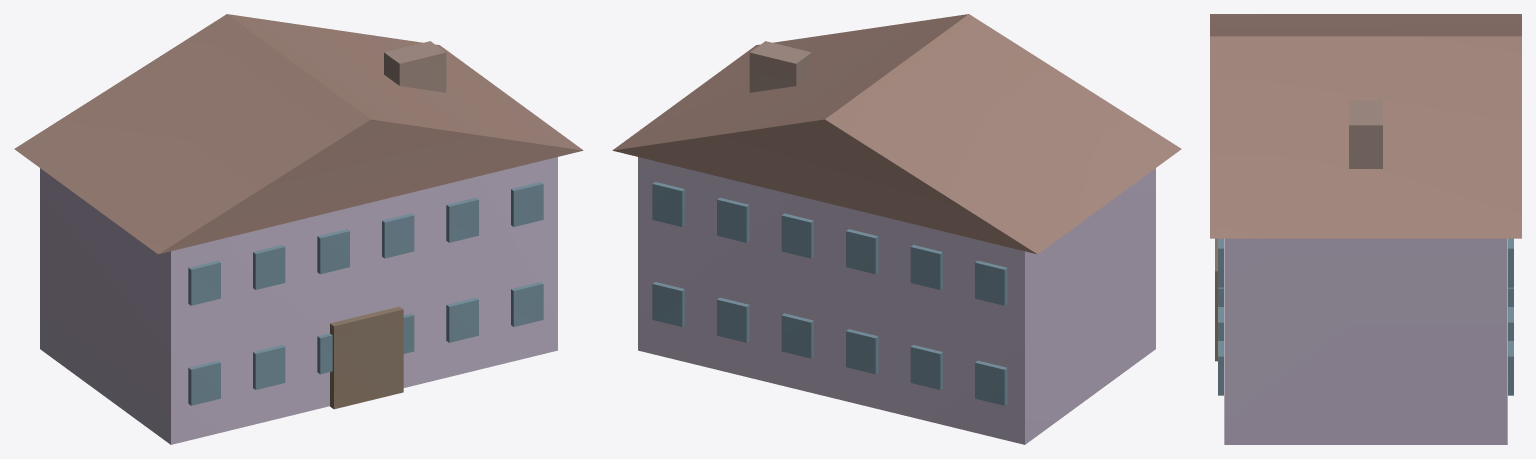
Rendered from barn-03.glb.
3 renders of one model, left to right at view 1: azimuth 30°, elevation 25°; view 2: azimuth 150°, elevation 25°; view 3: azimuth 270°, elevation 25°, orthographic. The views are drawn at different scales.
Visible parts, largest first — view 1: world; view 2: world; view 3: world.
Boxes of the visible parts, x1,y1,x2,y2 form: world: [14, 14, 583, 444]; world: [612, 14, 1181, 444]; world: [1210, 14, 1521, 444].
Size of the model in its own units: 2.15 by 1.36 by 1.26.
